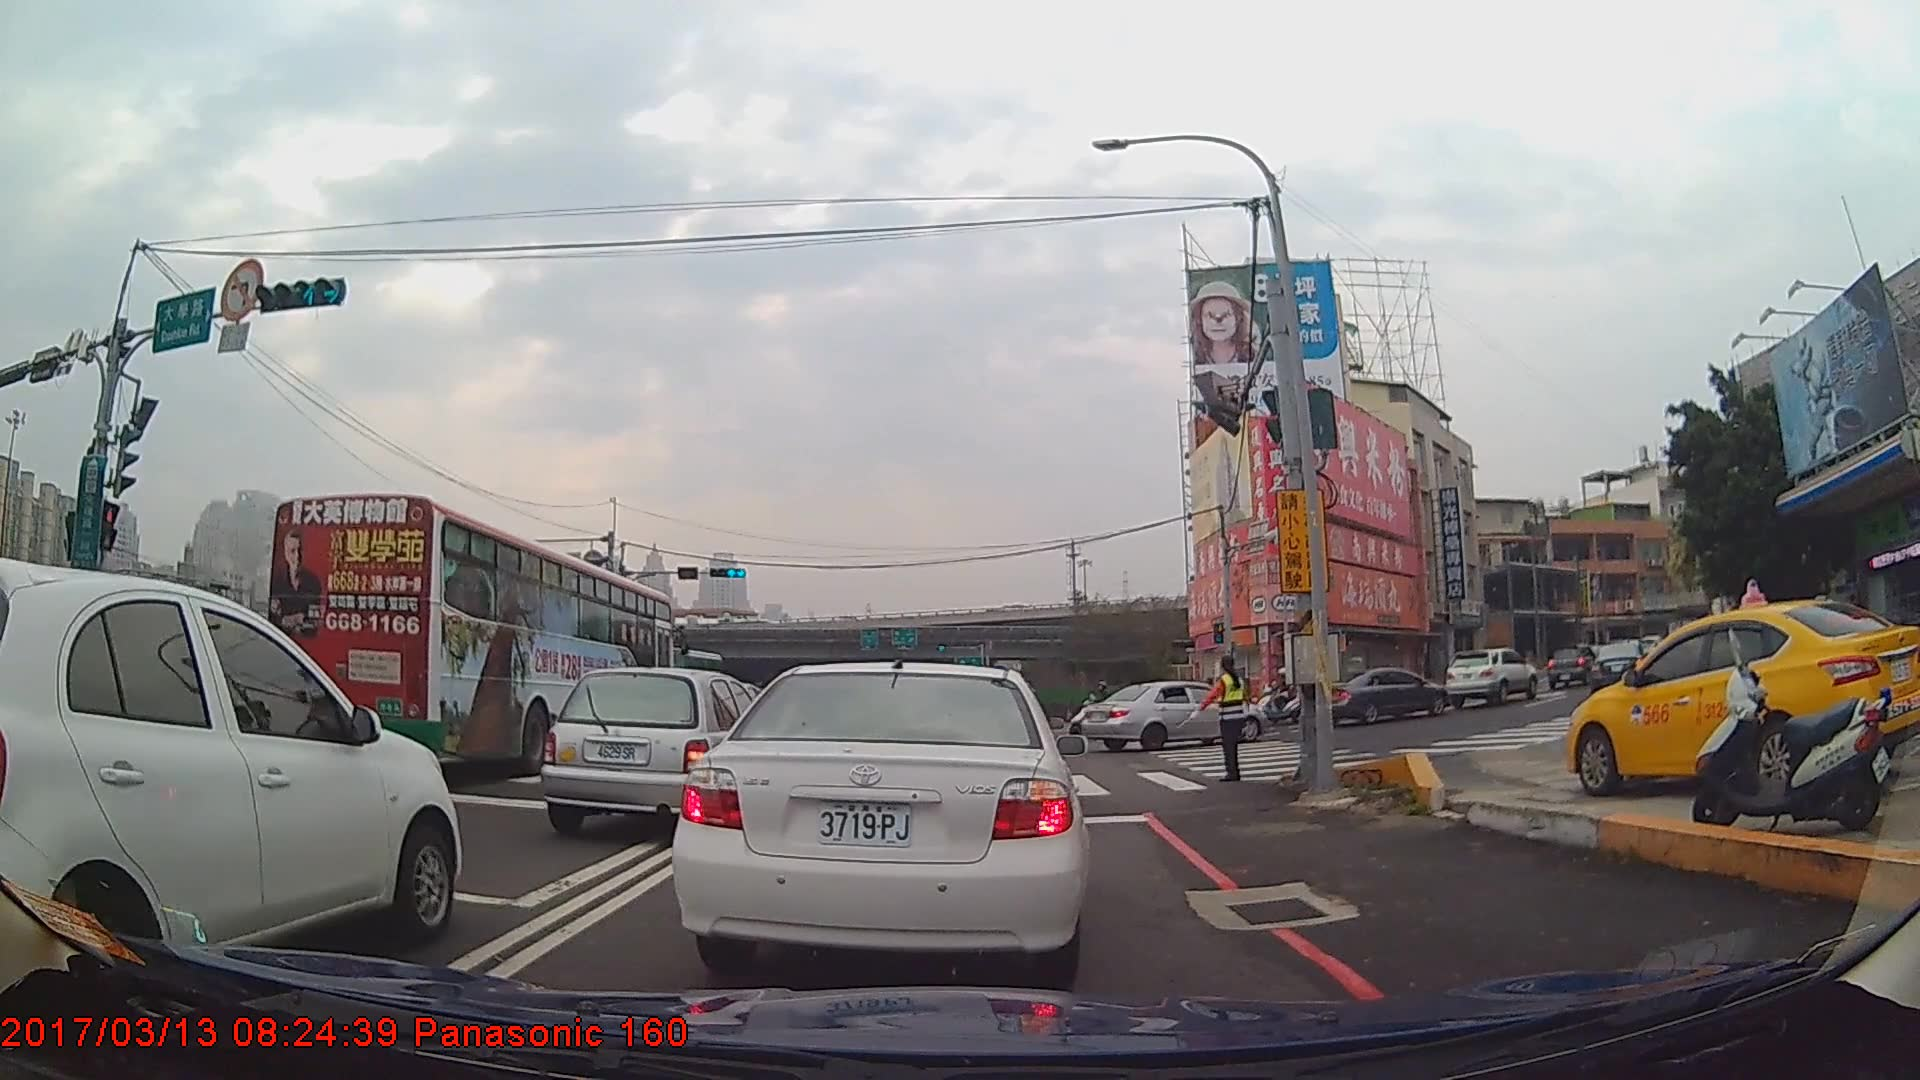pedestrian: (1208, 657, 1252, 785)
rider: (1072, 682, 1134, 738), (1253, 667, 1302, 725)
vehicle: (0, 556, 461, 1008), (671, 660, 1088, 985), (262, 492, 682, 781), (1561, 598, 1920, 797), (538, 666, 785, 840), (1077, 680, 1262, 751), (1318, 665, 1447, 725), (1445, 646, 1538, 708), (1587, 638, 1654, 699), (1547, 643, 1600, 689)
